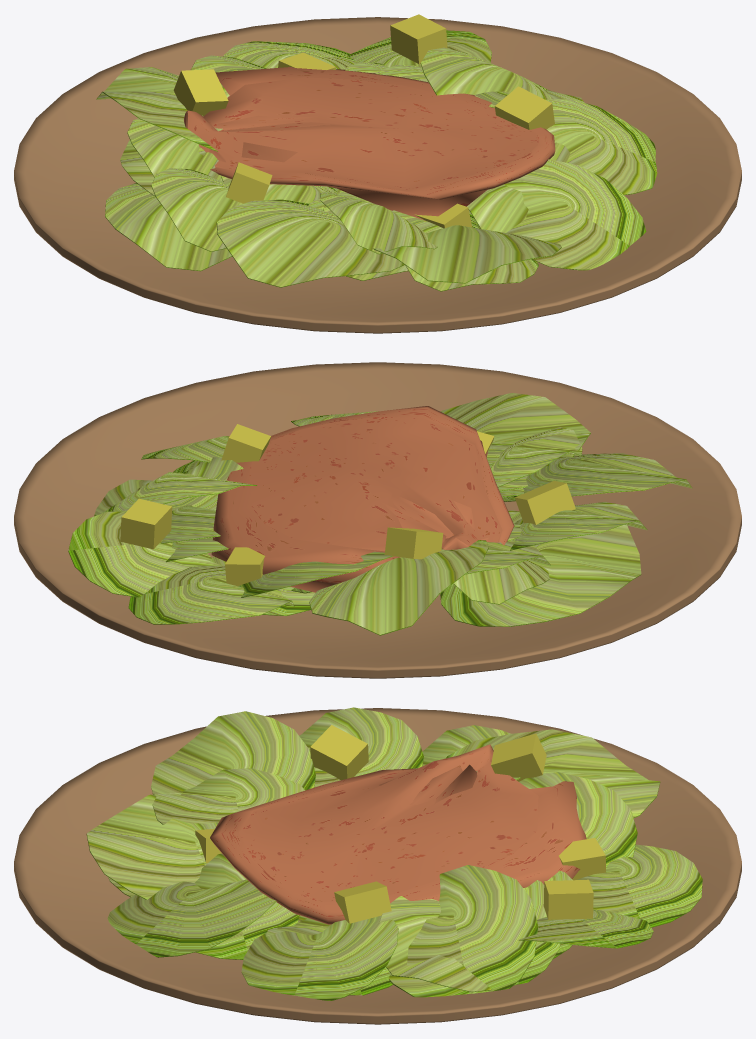
File: caesarSalad.obj
3 views of the same model, one above another, from view 1: azimuth 30°, elevation 25°; view 2: azimuth 150°, elevation 25°; view 3: azimuth 270°, elevation 25° (orthographic).
Parts seen in each view (by area): view 1: Cylinder002, Cylinder032, Cylinder028, Cylinder007, Cylinder011, Cylinder013, Cylinder016, Cylinder030, Cylinder017, Cylinder026, Cylinder014, Cylinder029 (+14 smaller); view 2: Cylinder002, Cylinder032, Cylinder016, Cylinder017, Cylinder024, Cylinder005, Cylinder028, Cylinder013, Cylinder030, Cylinder014, Cylinder015, Cylinder026 (+12 smaller); view 3: Cylinder002, Cylinder032, Cylinder026, Cylinder011, Cylinder007, Cylinder028, Cylinder013, Cylinder005, Cylinder017, Cylinder014, Cylinder030, Cylinder031 (+11 smaller).
Part boxes in pixels (x1,y1,x2,y2): Cylinder002: (14, 17, 741, 333); Cylinder032: (184, 67, 555, 220); Cylinder028: (216, 199, 404, 287); Cylinder007: (478, 159, 646, 270); Cylinder011: (545, 99, 657, 195); Cylinder013: (373, 225, 561, 283); Cylinder016: (105, 183, 232, 271); Cylinder030: (151, 168, 264, 251); Cylinder017: (96, 67, 217, 151); Cylinder026: (420, 47, 553, 99); Cylinder014: (320, 191, 437, 254); Cylinder029: (127, 118, 222, 180); Cylinder002: (14, 362, 741, 678); Cylinder032: (211, 406, 514, 592); Cylinder016: (440, 512, 641, 626); Cylinder017: (309, 540, 488, 635); Cylinder024: (68, 511, 221, 597); Cylinder005: (128, 565, 294, 624); Cylinder028: (502, 453, 692, 501); Cylinder013: (440, 393, 590, 456); Cylinder030: (510, 501, 647, 550); Cylinder014: (490, 427, 582, 487); Cylinder015: (453, 560, 549, 604); Cylinder026: (102, 472, 256, 513); Cylinder002: (14, 708, 741, 1024); Cylinder032: (210, 744, 586, 924); Cylinder026: (389, 865, 538, 997); Cylinder011: (241, 915, 398, 1000); Cylinder007: (107, 879, 276, 957); Cylinder028: (151, 711, 315, 794); Cylinder013: (86, 792, 206, 899); Cylinder005: (577, 844, 702, 927); Cylinder017: (446, 729, 660, 817); Cylinder014: (152, 768, 304, 824); Cylinder030: (299, 707, 423, 787); Cylinder031: (519, 772, 637, 868).
Size of the model in its own units: 59.1 by 11.42 by 59.09.
